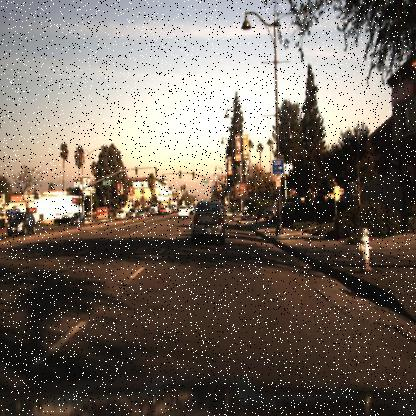car: (189, 195, 230, 247), (260, 197, 304, 225), (6, 211, 36, 237), (68, 210, 87, 231), (174, 202, 193, 220), (113, 204, 126, 223), (115, 205, 128, 223), (70, 211, 84, 227)
trafficLight-Green: (176, 166, 184, 180), (189, 168, 195, 181), (226, 182, 231, 195)
